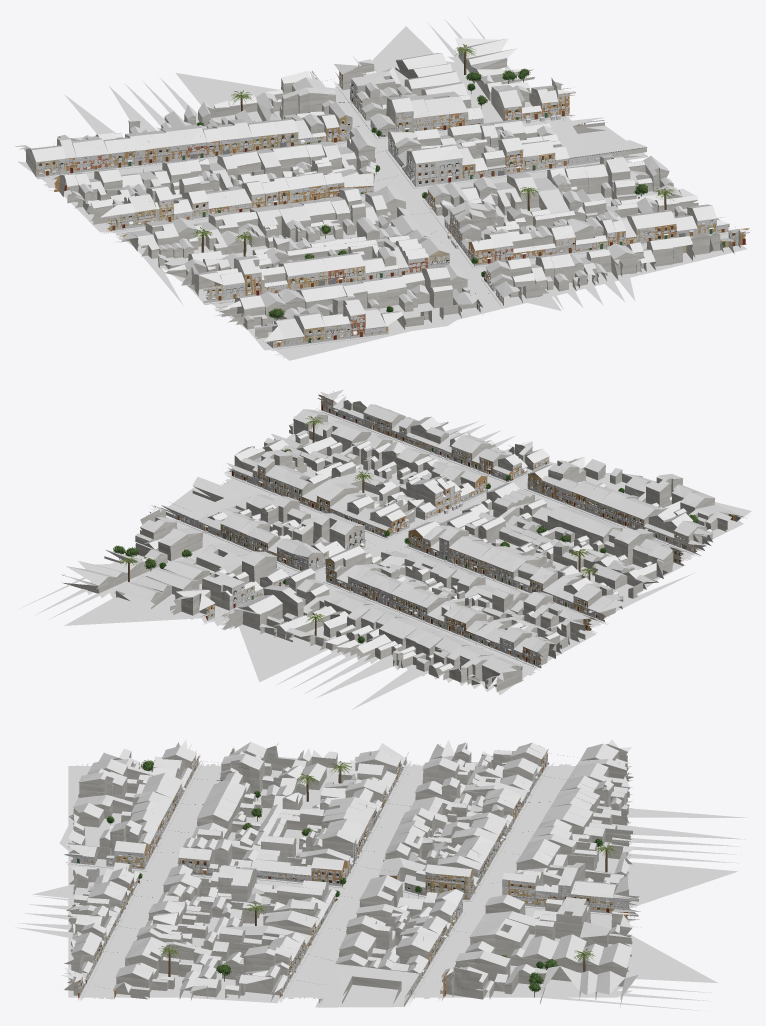
Rendered from zona_2_-3.glb.
3 views of the same model, one above another, from view 1: azimuth 30°, elevation 25°; view 2: azimuth 150°, elevation 25°; view 3: azimuth 270°, elevation 25° (orthographic). The views are drawn at different scales.
Parts seen in each view (by area): view 1: z_tejados_2_-3, z_casas_2_-3, z_calle_2_-3, z_fachadas_2_-3, z_casas_planas_2_-3, z_suelo_2_-3, z_arboles_2_-3, z_detalles_pueblo_2_-3, z_objetos_2_-3; view 2: z_tejados_2_-3, z_casas_2_-3, z_calle_2_-3, z_fachadas_2_-3, z_casas_planas_2_-3, z_suelo_2_-3, z_arboles_2_-3, z_detalles_pueblo_2_-3; view 3: z_tejados_2_-3, z_casas_2_-3, z_calle_2_-3, z_fachadas_2_-3, z_suelo_2_-3, z_casas_planas_2_-3, z_arboles_2_-3, z_detalles_pueblo_2_-3, z_objetos_2_-3.
Part boxes in pixels (x1,y1,x2,y2): z_tejados_2_-3: (15, 38, 751, 341); z_casas_2_-3: (26, 49, 749, 347); z_calle_2_-3: (17, 15, 747, 360); z_fachadas_2_-3: (36, 71, 749, 348); z_casas_planas_2_-3: (53, 66, 719, 326); z_suelo_2_-3: (42, 86, 728, 358); z_arboles_2_-3: (192, 44, 675, 320); z_detalles_pueblo_2_-3: (36, 83, 716, 348); z_objetos_2_-3: (43, 75, 735, 340); z_tejados_2_-3: (63, 389, 742, 686); z_casas_2_-3: (61, 394, 742, 691); z_calle_2_-3: (17, 410, 751, 709); z_fachadas_2_-3: (161, 395, 743, 668); z_casas_planas_2_-3: (161, 408, 561, 682); z_suelo_2_-3: (173, 415, 749, 675); z_arboles_2_-3: (113, 416, 698, 643); z_detalles_pueblo_2_-3: (176, 412, 695, 667); z_tejados_2_-3: (61, 739, 640, 998); z_casas_2_-3: (64, 743, 632, 1007); z_calle_2_-3: (15, 757, 747, 1011); z_fachadas_2_-3: (64, 748, 639, 1005); z_suelo_2_-3: (70, 755, 629, 998); z_casas_planas_2_-3: (66, 758, 639, 1006); z_arboles_2_-3: (106, 759, 617, 997); z_detalles_pueblo_2_-3: (71, 762, 623, 995); z_objetos_2_-3: (73, 744, 619, 995).
Bounding box in the file's own units: 221 × 12.93 × 267.
